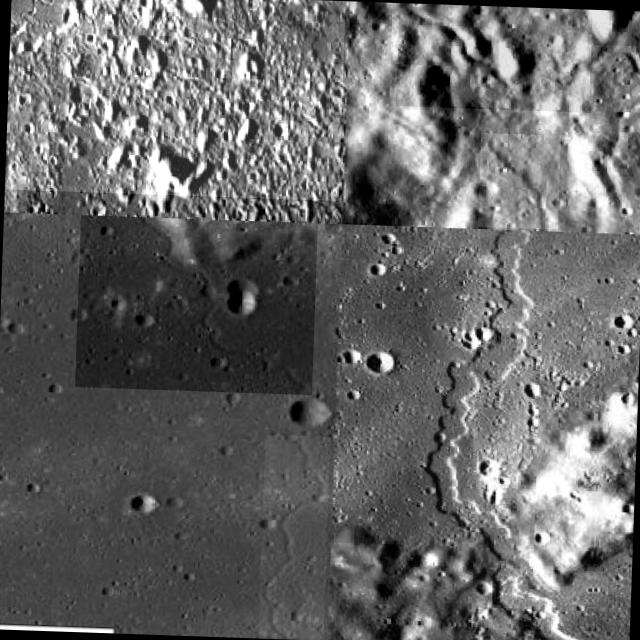rille: (418, 227, 601, 640), (4, 0, 345, 201), (75, 214, 318, 394), (395, 2, 640, 114), (258, 434, 330, 638), (587, 44, 640, 214), (478, 133, 560, 230)
